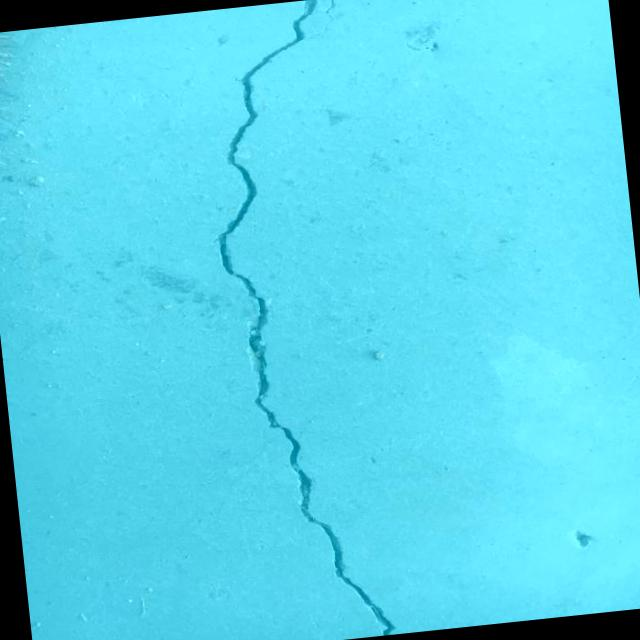crack: (187, 0, 402, 640), (149, 447, 272, 491)
